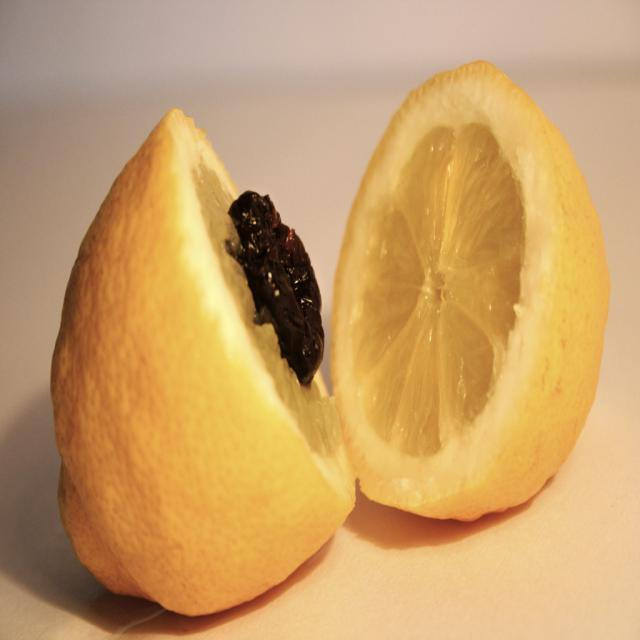Lemon: (47, 106, 357, 622), (329, 55, 613, 523)
